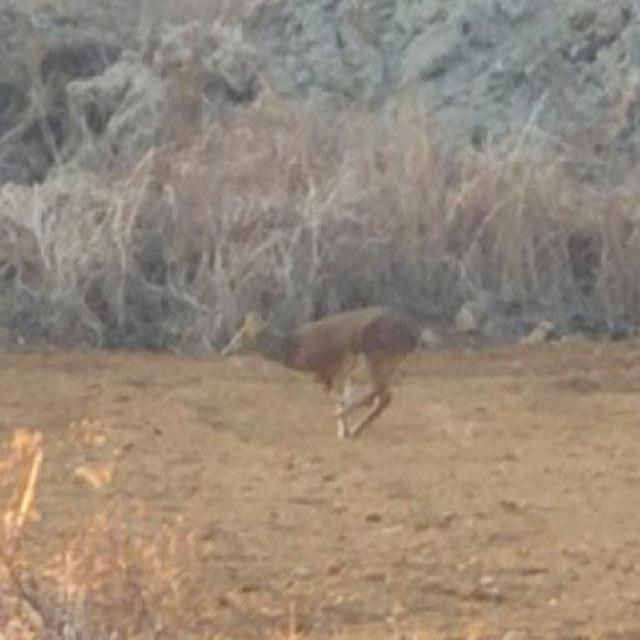deer: (205, 299, 424, 442)
